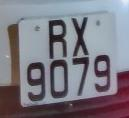0: (45, 56, 76, 102)
7: (70, 54, 95, 101)
9: (22, 55, 51, 108), (91, 51, 114, 100)
R: (44, 14, 74, 62)
X: (68, 13, 94, 58)
